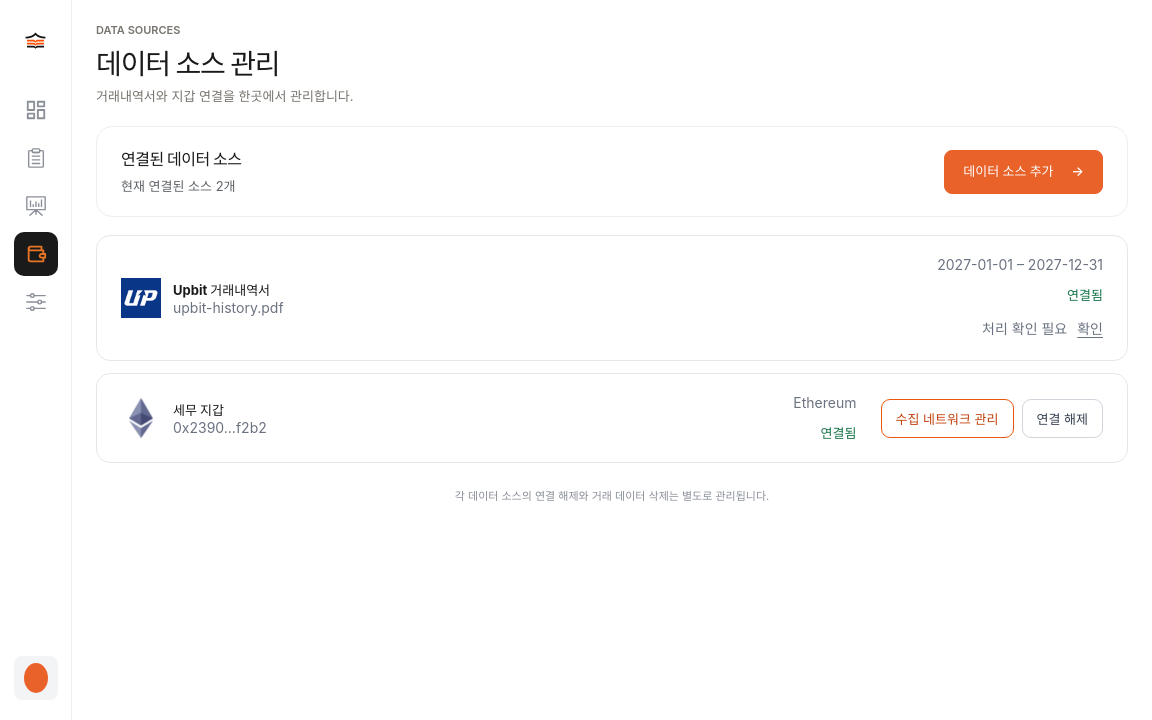
Test case: source flow pages › uses a safe fallback for unknown failures and shares the same right-control structure
Expected: the text "현재 연결된 소스 2개" is shown, [121, 176, 242, 196]
Click the button "처리 확인 필요 확인": (1043, 328) [982, 316, 1103, 340]
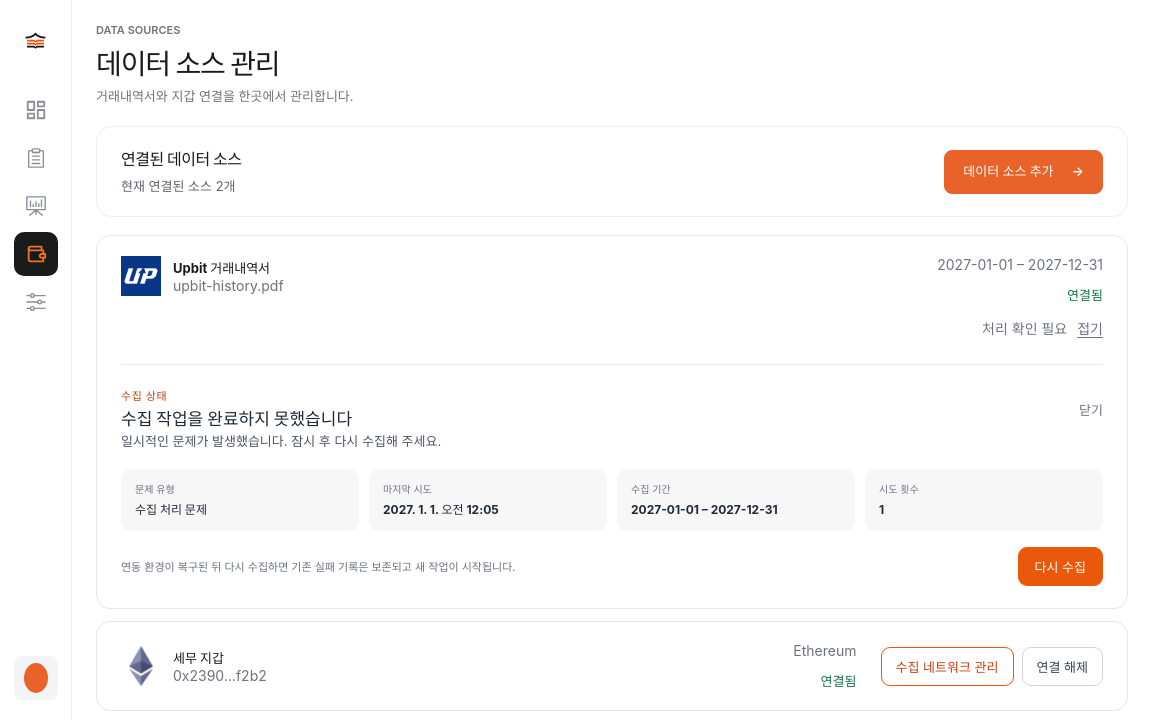
Expected: the heading "수집 작업을 완료하지 못했습니다" is shown, [121, 407, 352, 431]
Expected: the text "수집 처리 문제" is shown, [135, 502, 207, 517]
Expected: the text "일시적인 문제가 발생했습니다. 잠시 후 다시 수집해 주세요." is shown, [121, 433, 441, 449]
